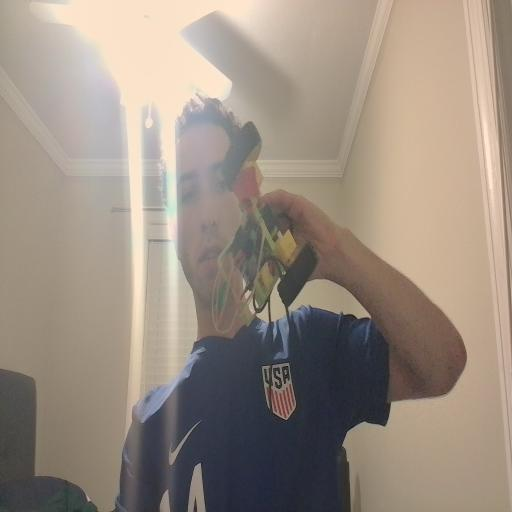green LEGO minifig: (214, 282, 228, 313)
